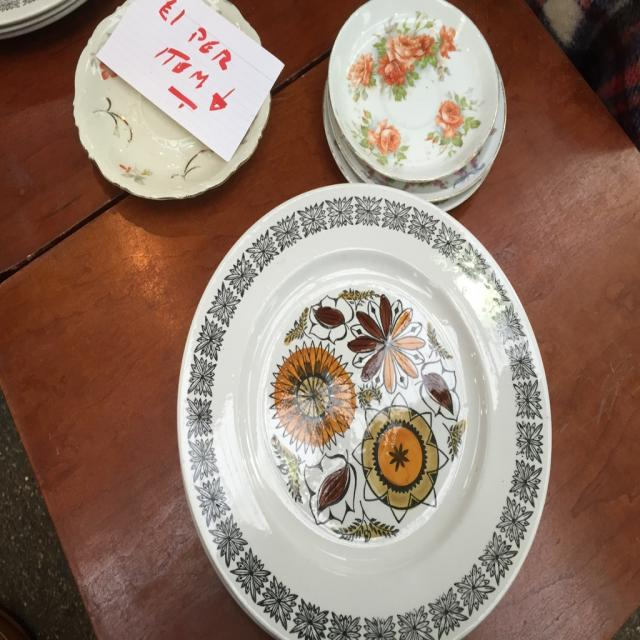non-organic waste: (168, 178, 556, 640)
